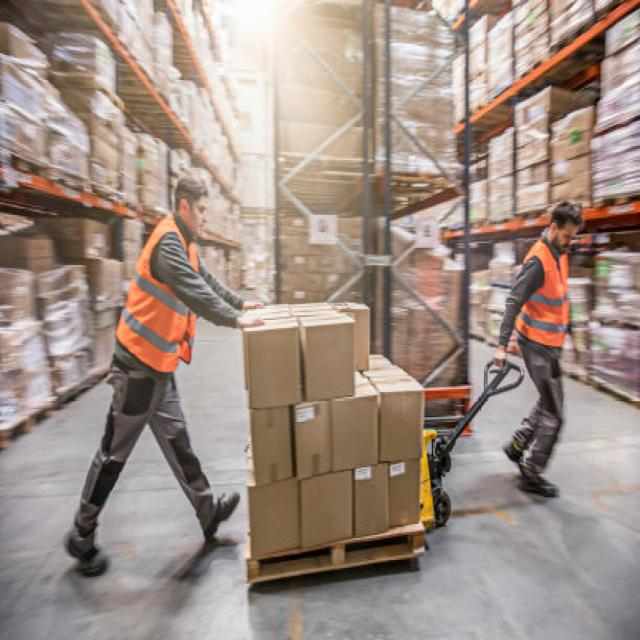Wooden-Pallets: (247, 525, 427, 598)
